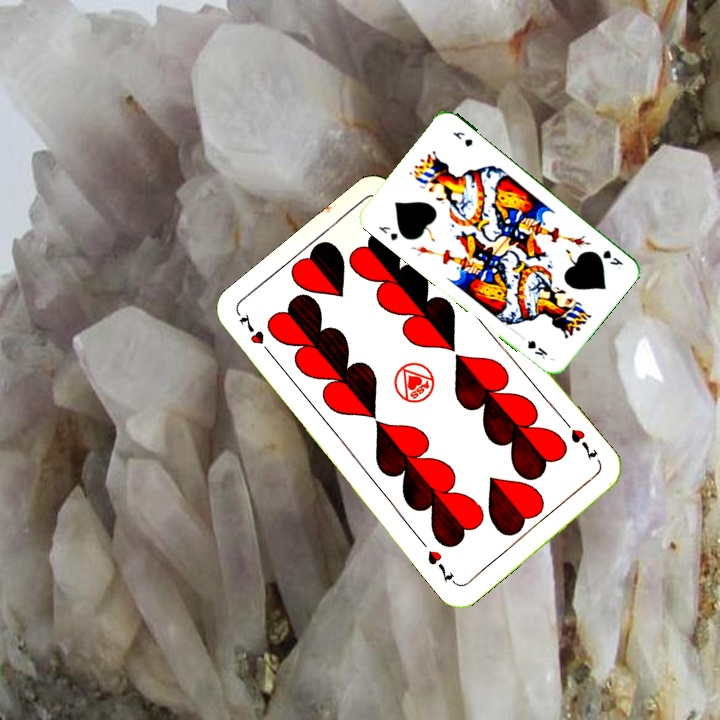GK: (599, 246, 626, 272), (374, 222, 400, 243)
H7: (235, 309, 276, 360), (566, 424, 600, 462)
